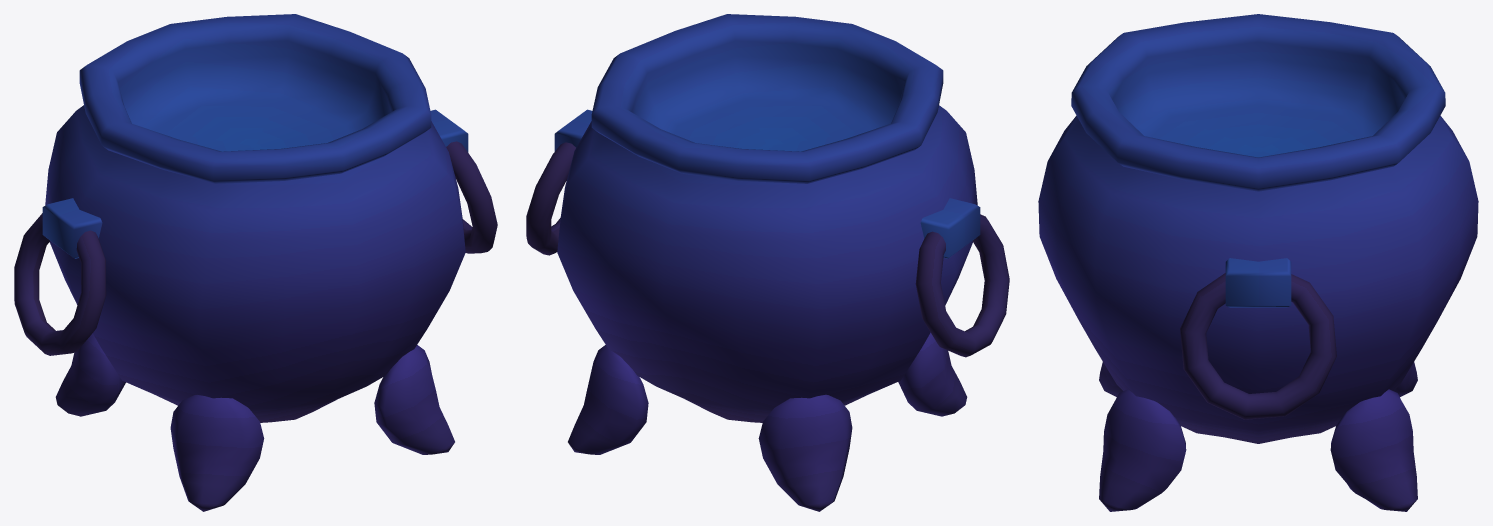
Rendered from Cauldron.fbx.
The picture shows the model from 3 angles, left to right: view 1: azimuth 30°, elevation 25°; view 2: azimuth 150°, elevation 25°; view 3: azimuth 270°, elevation 25°; orthographic projection. The views are drawn at different scales.
Visible parts, largest first — view 1: Cauldron_Adjusted; view 2: Cauldron_Adjusted; view 3: Cauldron_Adjusted.
Boxes of the visible parts, x1=… form: Cauldron_Adjusted: x1=14, y1=14, x2=497, y2=511; Cauldron_Adjusted: x1=526, y1=14, x2=1009, y2=511; Cauldron_Adjusted: x1=1038, y1=14, x2=1478, y2=511.
Size of the model in its own units: 101 by 75.86 by 83.08.
